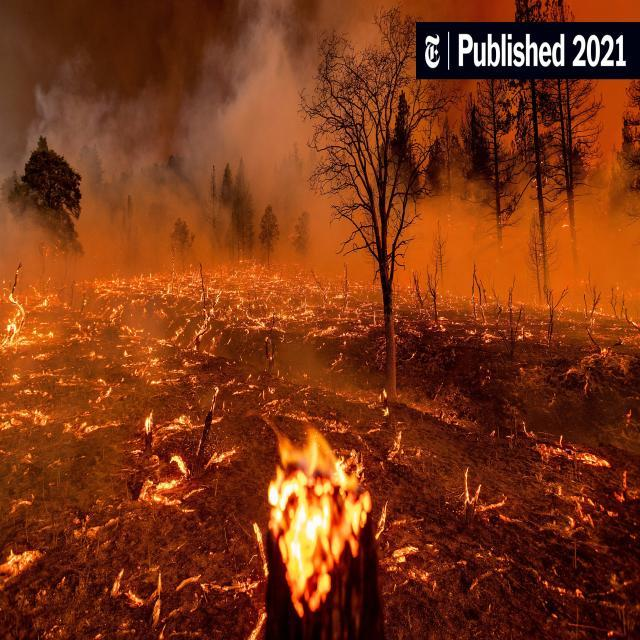Fire: (270, 452, 366, 588)
Smoke: (226, 47, 309, 183), (1, 290, 35, 354)
